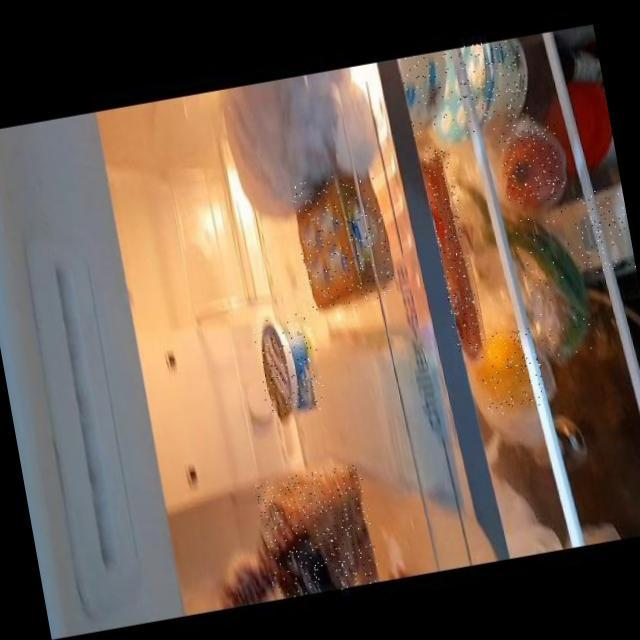Limón: (474, 324, 547, 415)
Mantequilla: (288, 168, 396, 313)
Yogur: (448, 35, 534, 134), (250, 310, 327, 417), (398, 47, 458, 135)
Zanahoria: (421, 142, 485, 353)
bread: (255, 463, 380, 600)
green chilies: (511, 200, 597, 358)
milk: (569, 184, 636, 275)
tomato paste: (495, 121, 567, 206)
